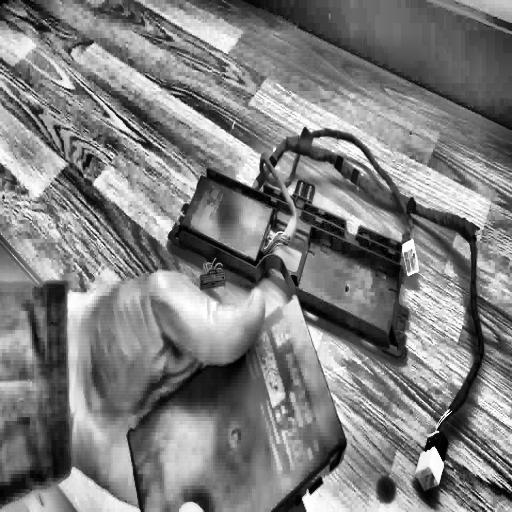high_volt_cable: (249, 114, 493, 496)
